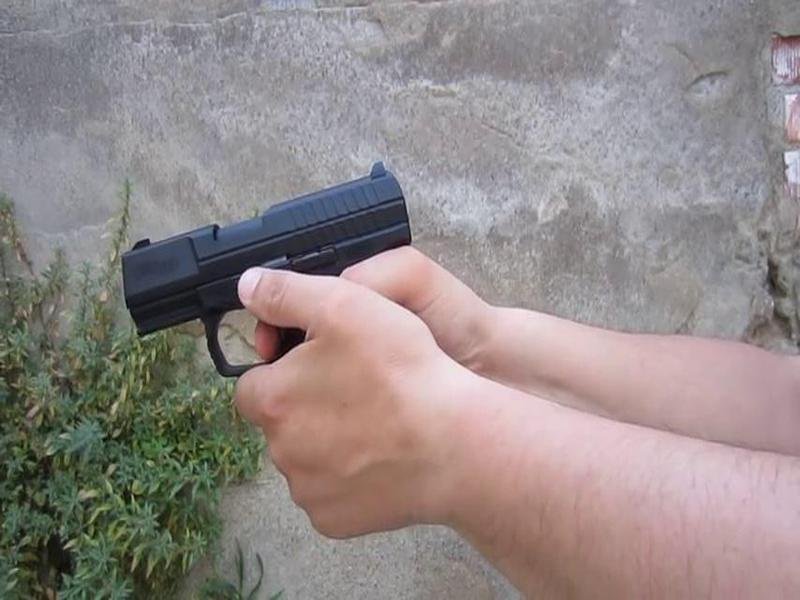Pistola: (117, 153, 456, 387)
